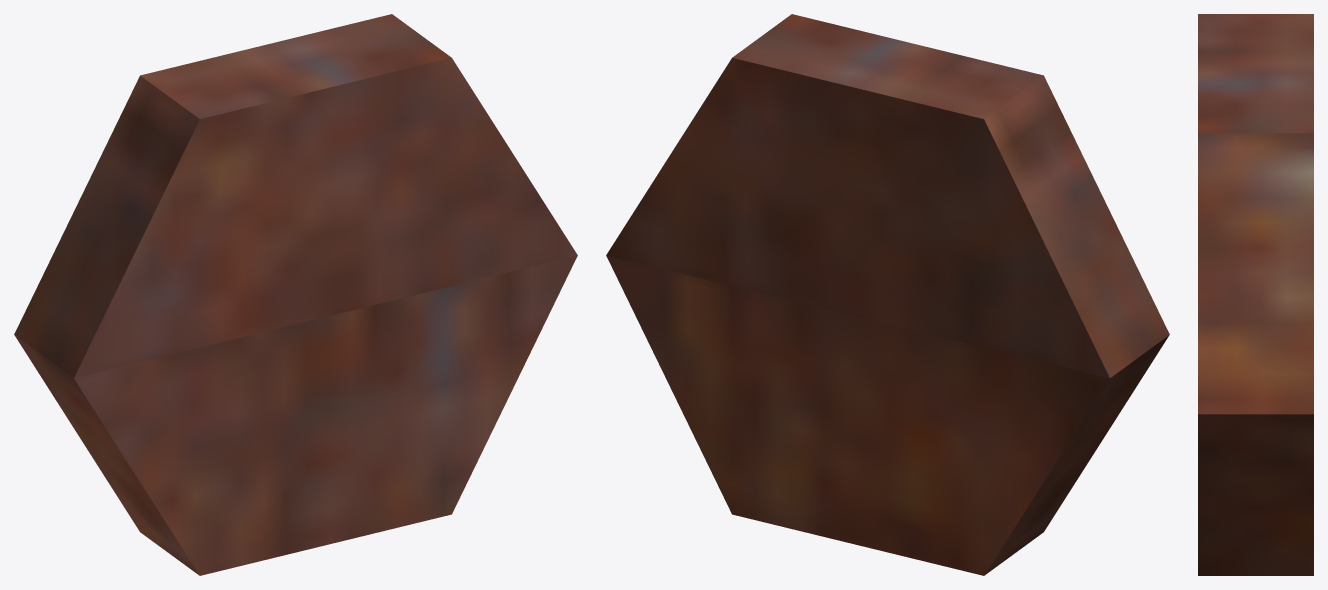
File: MESH_PIPE_BIG_COVER.fbx
The picture shows the model from 3 angles, left to right: view 1: azimuth 30°, elevation 25°; view 2: azimuth 150°, elevation 25°; view 3: azimuth 270°, elevation 25°; orthographic projection. The views are drawn at different scales.
Visible parts, largest first — view 1: MESH_PIPE_BIG_COVER; view 2: MESH_PIPE_BIG_COVER; view 3: MESH_PIPE_BIG_COVER.
Boxes of the visible parts, <box> form: MESH_PIPE_BIG_COVER: <box>14,14,577,575</box>; MESH_PIPE_BIG_COVER: <box>606,14,1169,575</box>; MESH_PIPE_BIG_COVER: <box>1198,14,1313,575</box>.
Bounding box in the file's own units: 0.7 × 0.6062 × 0.1439.
